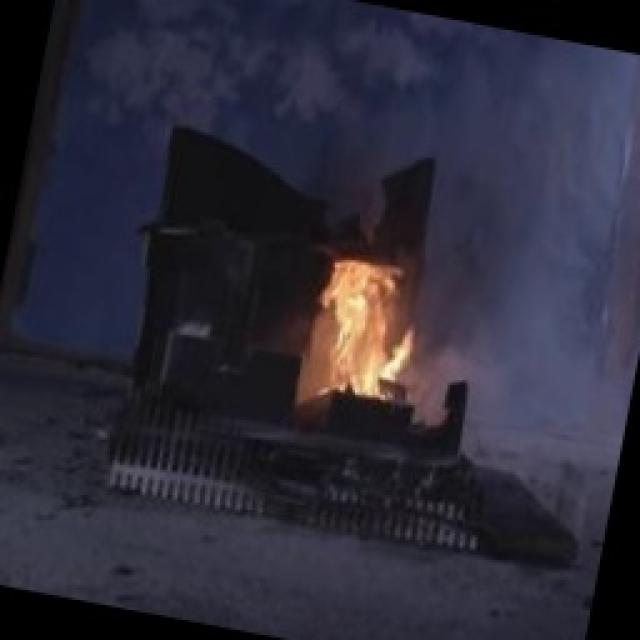fire: (294, 232, 458, 436)
